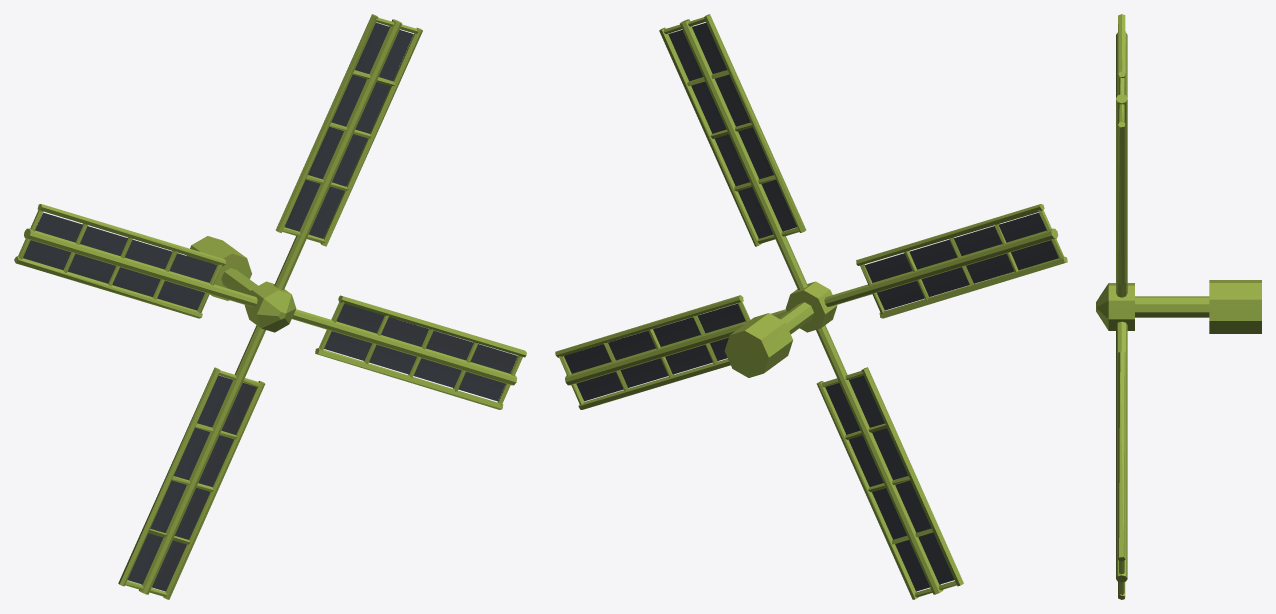
The model's file is Windmill_04.fbx.
3 views of the same model, side by side, from view 1: azimuth 30°, elevation 25°; view 2: azimuth 150°, elevation 25°; view 3: azimuth 270°, elevation 25° (orthographic). The views are drawn at different scales.
Parts seen in each view (by area): view 1: Windmill_04; view 2: Windmill_04; view 3: Windmill_04.
Part boxes in pixels (x1,y1,x2,y2): Windmill_04: (14, 14, 526, 599); Windmill_04: (555, 14, 1067, 599); Windmill_04: (1096, 14, 1261, 599).
Size of the model in its own units: 5.1 by 5.1 by 1.33.
